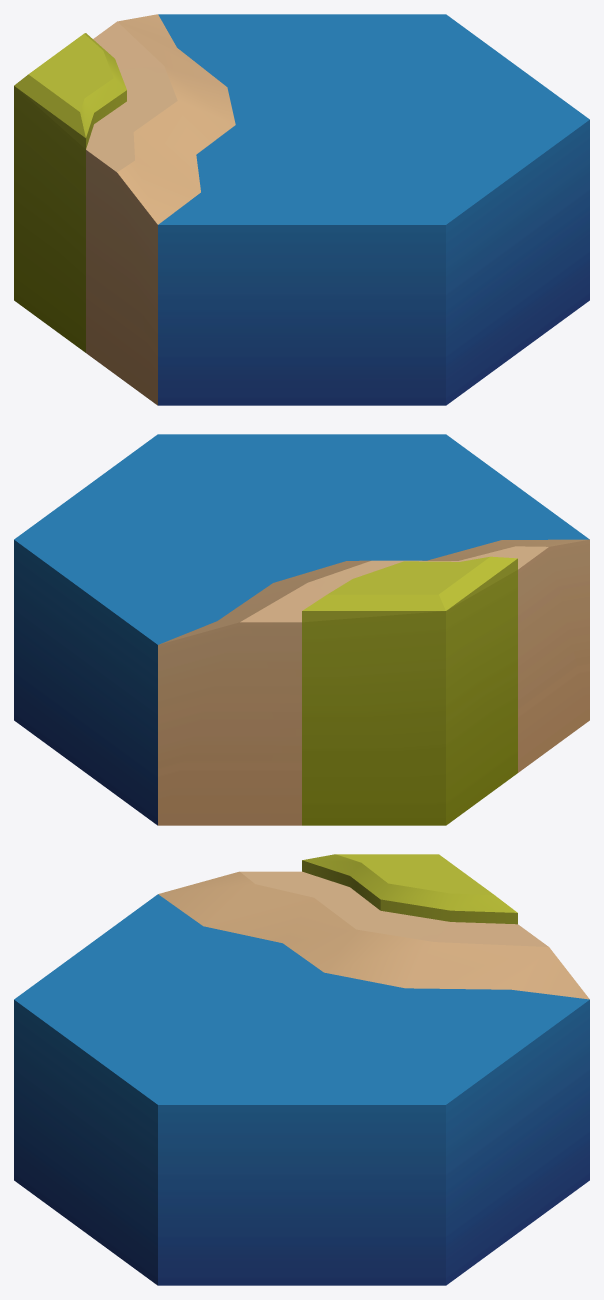
File: kaykit-medieval-hexagon-pack-hex-coast-d.glb
3 views of the same model, one above another, from view 1: azimuth 30°, elevation 25°; view 2: azimuth 150°, elevation 25°; view 3: azimuth 270°, elevation 25° (orthographic).
Parts seen in each view (by area): view 1: hex_coast_D; view 2: hex_coast_D; view 3: hex_coast_D.
Part boxes in pixels (bbox=[...]): hex_coast_D: bbox=[14, 14, 589, 405]; hex_coast_D: bbox=[14, 434, 589, 825]; hex_coast_D: bbox=[14, 854, 589, 1285].
Size of the model in its own units: 2 by 1 by 2.31.
Materials: 1 (1 with a texture image).
